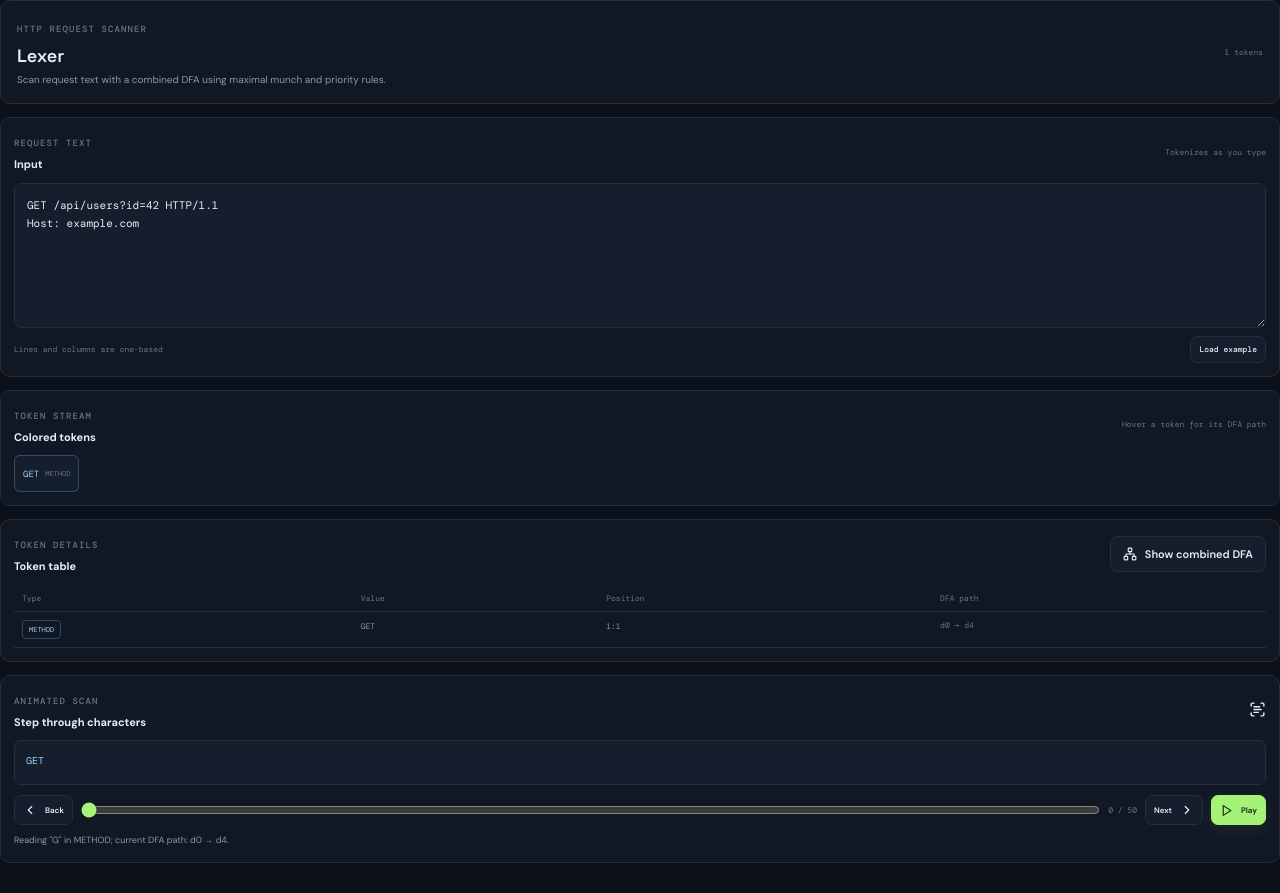
Test: LexerWorkspace › renders scanned token chips and opens the combined DFA
The width and height of the screenshot is (1280, 893).
Expected: the text "METHOD" below "Colored tokens" is shown, 45,469 -> 70,478
Click the button "Show combined DFA" at (1188, 554), box 1110,536 -> 1266,572
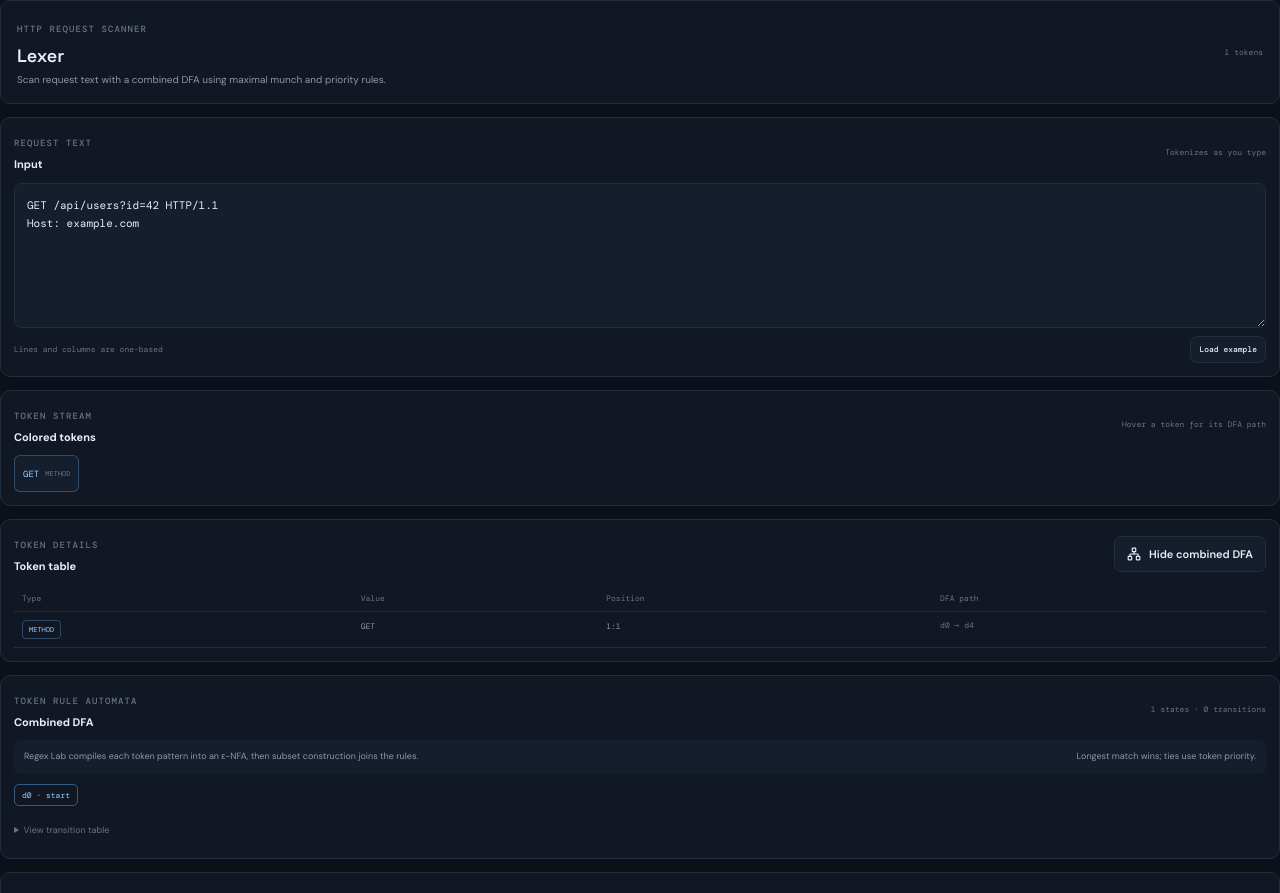
Expected: the text "Combined DFA" is shown, 14,714 -> 94,728
Expected: the text "d0 · start" is shown, 14,784 -> 78,806
